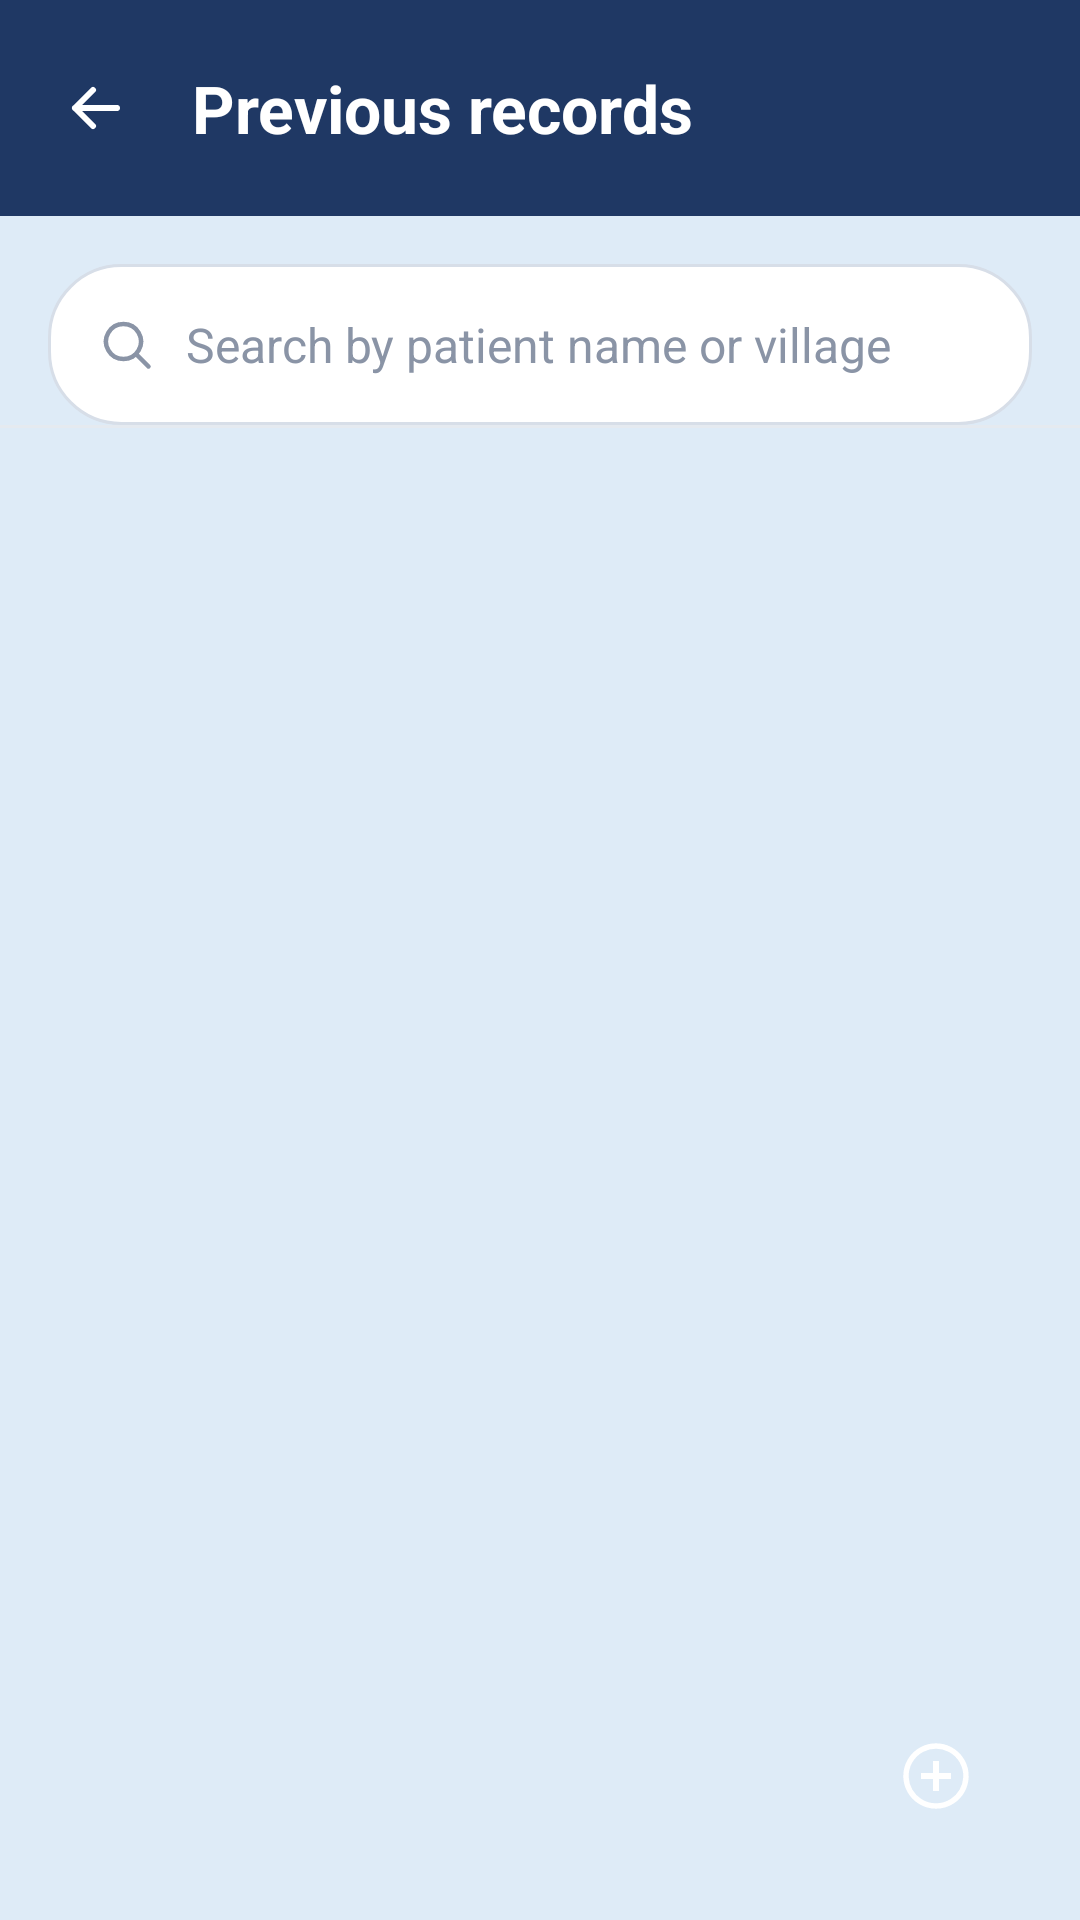

Where icons sit on this 1080*1920 app screen, as (x1, y1, x2, y2):
Add new patient screening: (903, 1743, 968, 1809)
Back: (72, 87, 120, 129)
